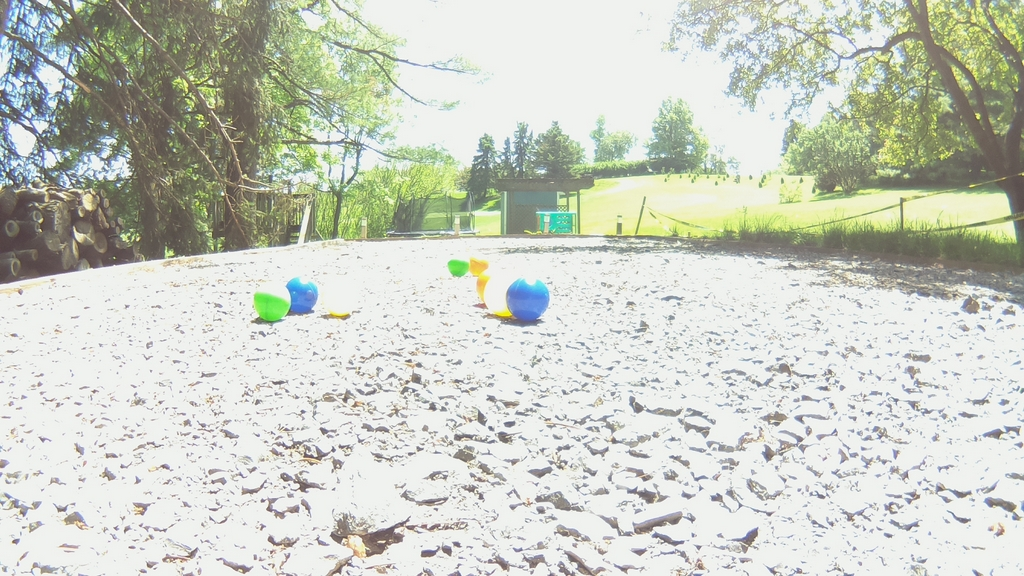ball: (470, 253, 488, 279)
